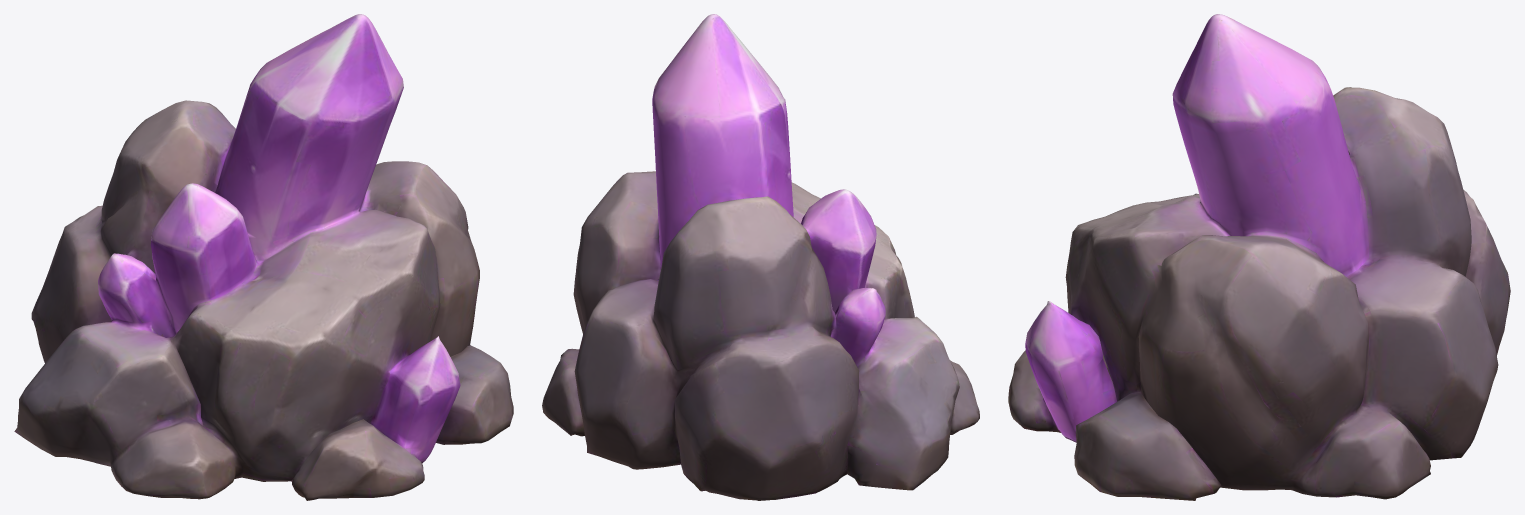
File: mine-rock-2.glb
The picture shows the model from 3 angles, left to right: view 1: azimuth 30°, elevation 25°; view 2: azimuth 150°, elevation 25°; view 3: azimuth 270°, elevation 25°; orthographic projection. The views are drawn at different scales.
Visible parts, largest first — view 1: tripo_node_bc8747b4-1849-4075-8381-07214d8d53b9; view 2: tripo_node_bc8747b4-1849-4075-8381-07214d8d53b9; view 3: tripo_node_bc8747b4-1849-4075-8381-07214d8d53b9.
Boxes of the visible parts, x1,y1,x2,y2 form: tripo_node_bc8747b4-1849-4075-8381-07214d8d53b9: (14, 14, 513, 500); tripo_node_bc8747b4-1849-4075-8381-07214d8d53b9: (542, 14, 979, 500); tripo_node_bc8747b4-1849-4075-8381-07214d8d53b9: (1008, 14, 1510, 500).
Size of the model in its own units: 0.9901 by 0.917 by 0.9699.
Materials: 1 (1 with a texture image).
